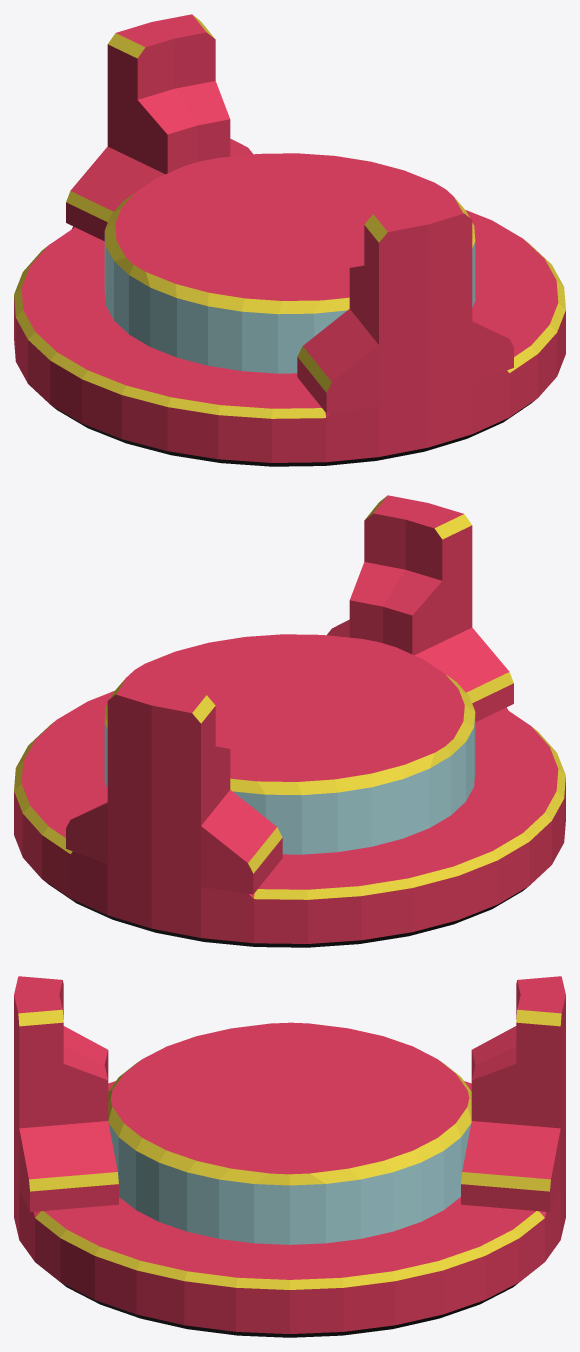
The model's file is AT03Pedestal.fbx.
3 renders of one model, top to bottom at view 1: azimuth 30°, elevation 25°; view 2: azimuth 150°, elevation 25°; view 3: azimuth 270°, elevation 25°, orthographic.
Visible parts, largest first — view 1: Cylinder; view 2: Cylinder; view 3: Cylinder.
Boxes of the visible parts, x1,y1,x2,y2 form: Cylinder: [14, 14, 565, 466]; Cylinder: [14, 495, 565, 947]; Cylinder: [14, 976, 565, 1337].
Size of the model in its own units: 200 by 91.78 by 200.
